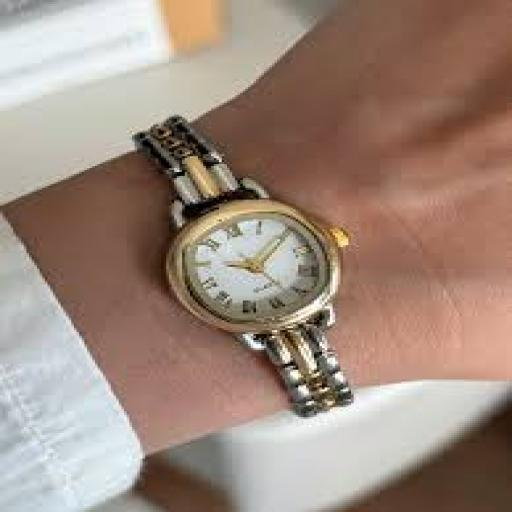KolSaati: (121, 109, 392, 420)
